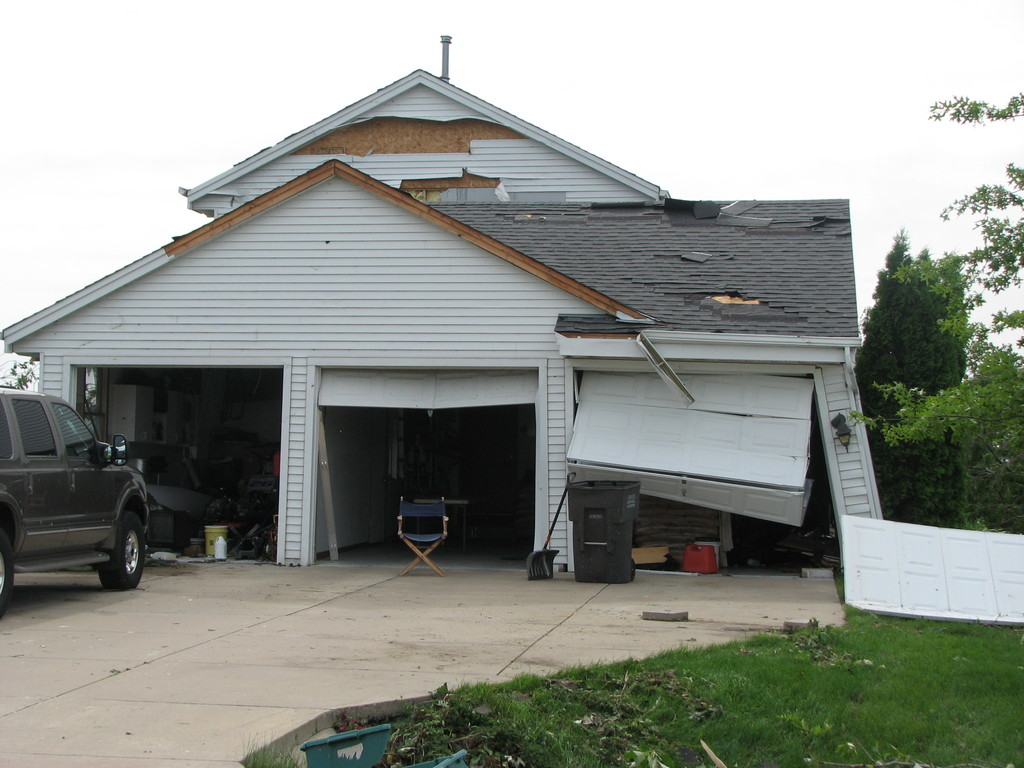Car: (0, 384, 150, 611)
